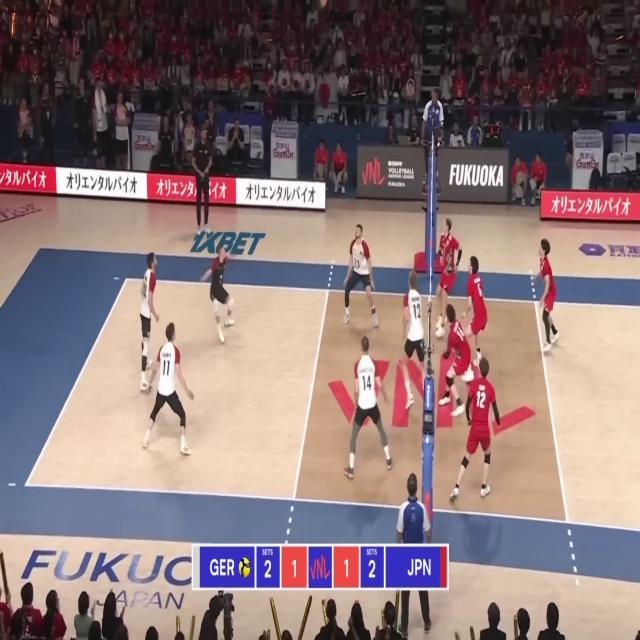referee: (395, 473, 433, 639)
team_one: (141, 322, 193, 455), (344, 336, 392, 480), (198, 244, 234, 346), (342, 223, 377, 326), (402, 270, 426, 408), (140, 253, 161, 391)
team_two: (450, 357, 500, 501), (439, 304, 471, 417), (434, 218, 462, 338), (533, 239, 560, 353), (463, 255, 487, 366)
